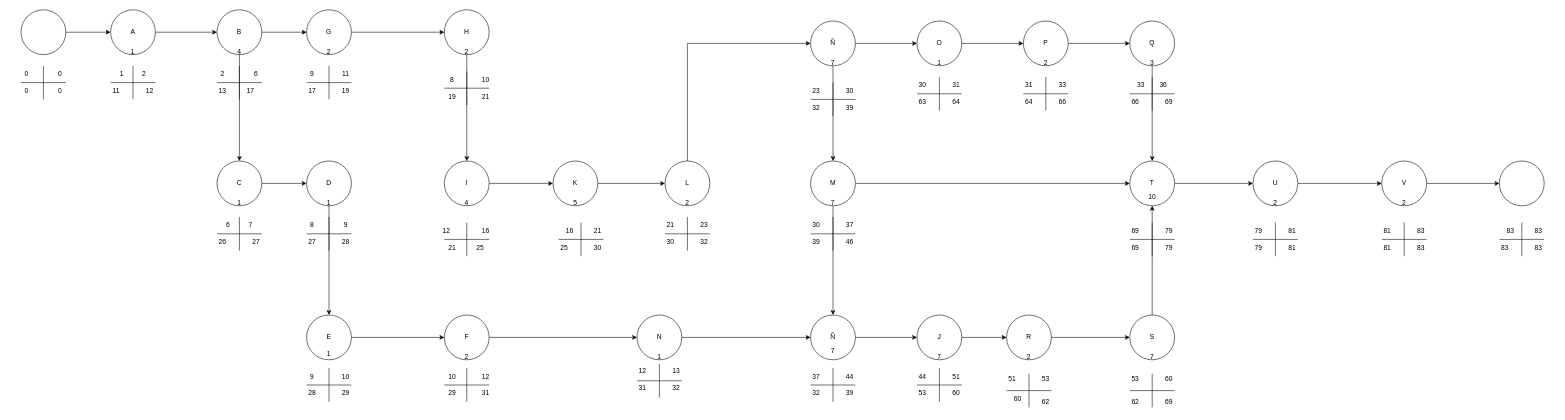
This 1565x420 diagram has some shape labels left out. Here are the shapes that lost their labels. From the top down, the centre of each, then its label:
At pixel 43 32: "inicio".
At pixel 1521 183: "FIN".
